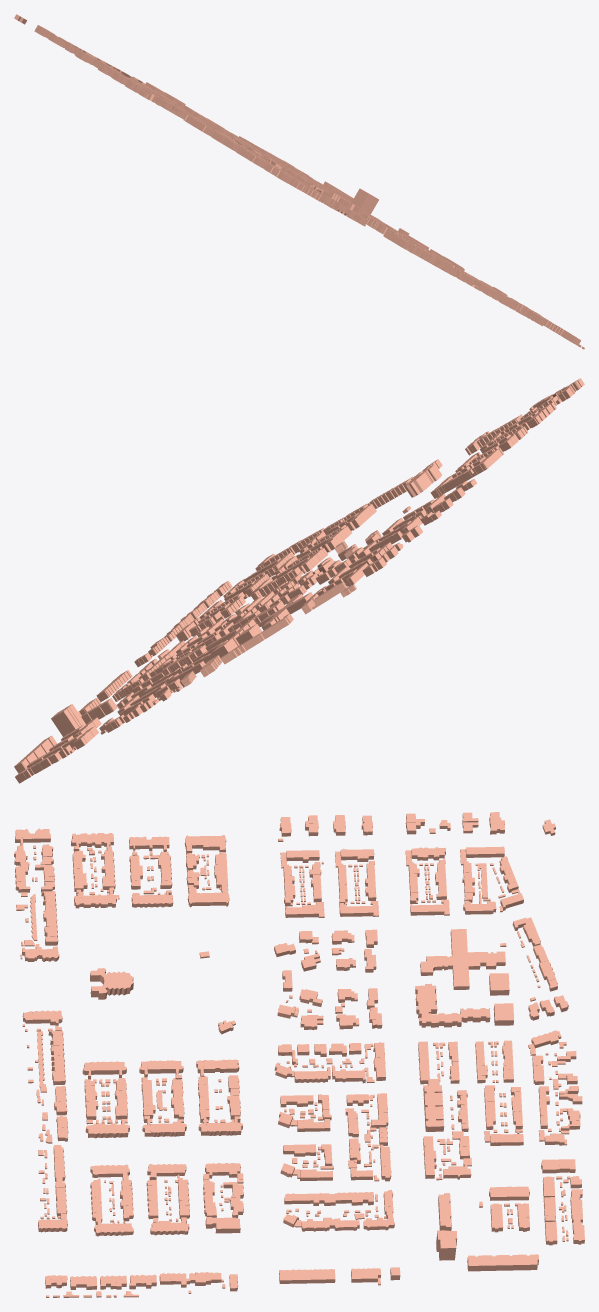
3 renders of one model, top to bottom at view 1: azimuth 30°, elevation 25°; view 2: azimuth 150°, elevation 25°; view 3: azimuth 270°, elevation 25°, orthographic. The views are drawn at different scales.
Size of the model in its own units: 501 by 364 by 628.
